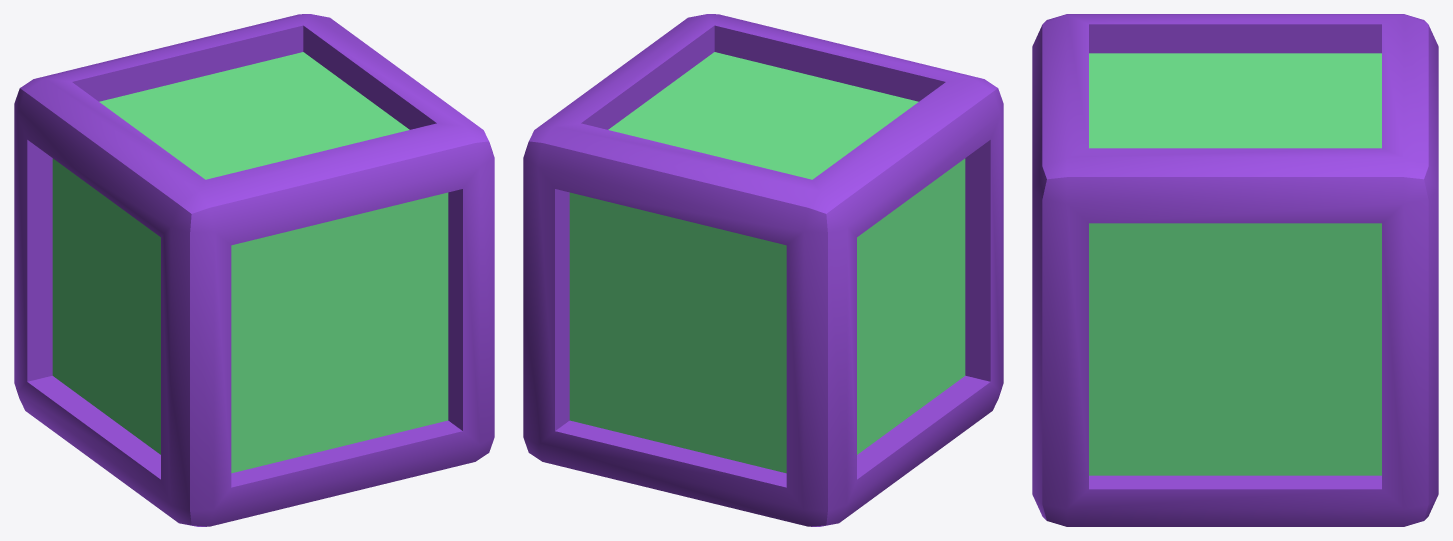
Rendered from Obstacle 15 V4.fbx.
3 renders of one model, left to right at view 1: azimuth 30°, elevation 25°; view 2: azimuth 150°, elevation 25°; view 3: azimuth 270°, elevation 25°, orthographic. The views are drawn at different scales.
Visible parts, largest first — view 1: O15 Part 1; view 2: O15 Part 1; view 3: O15 Part 1.
Part boxes in pixels (box(x1,y1,x2,y2)): O15 Part 1: box(14, 14, 494, 526); O15 Part 1: box(523, 14, 1003, 526); O15 Part 1: box(1032, 14, 1438, 526).
Size of the model in its own units: 62.51 by 62.51 by 62.51.
1 material, 1 textured.
